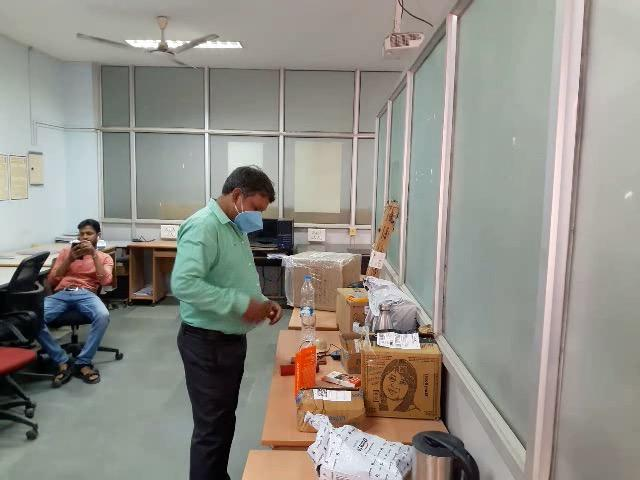Normal: (1, 0, 493, 479)
shoplifting: (153, 256, 325, 381)
